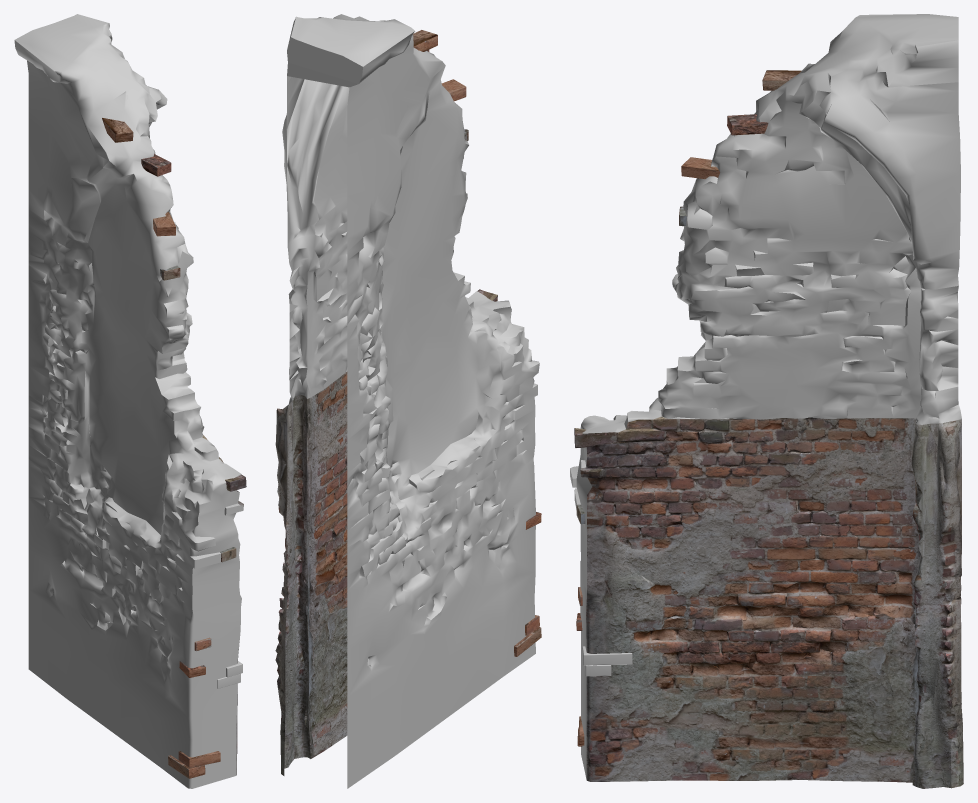
File: sm_ChapelWall_01_04.fbx
The picture shows the model from 3 angles, left to right: view 1: azimuth 30°, elevation 25°; view 2: azimuth 150°, elevation 25°; view 3: azimuth 270°, elevation 25°; orthographic projection. The views are drawn at different scales.
Parts seen in each view (by area): view 1: sm_ChapelWall_01_04_LOD0; view 2: sm_ChapelWall_01_04_LOD0; view 3: sm_ChapelWall_01_04_LOD0.
Part boxes in pixels (x1,y1,x2,y2): sm_ChapelWall_01_04_LOD0: (14, 14, 246, 788); sm_ChapelWall_01_04_LOD0: (275, 14, 541, 788); sm_ChapelWall_01_04_LOD0: (570, 14, 963, 788).
Size of the model in its own units: 90.62 by 274 by 570.
